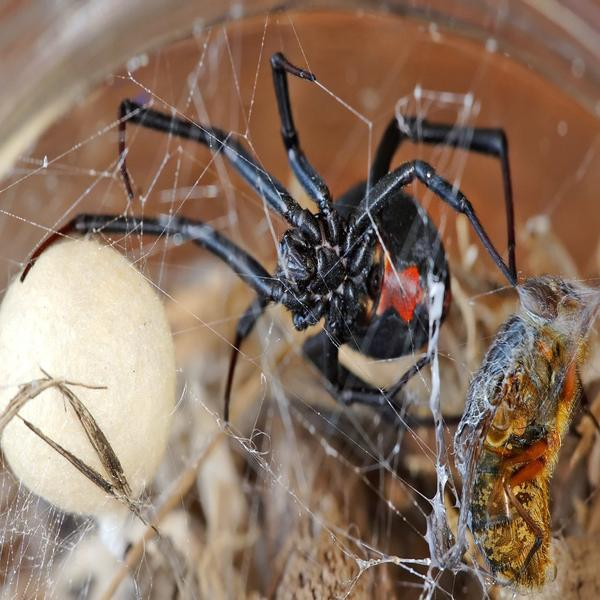Redback Spider: (22, 52, 518, 412)
